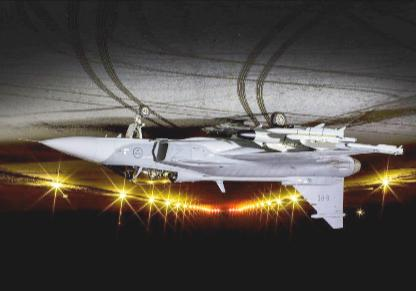JAS39: (15, 105, 403, 228)
